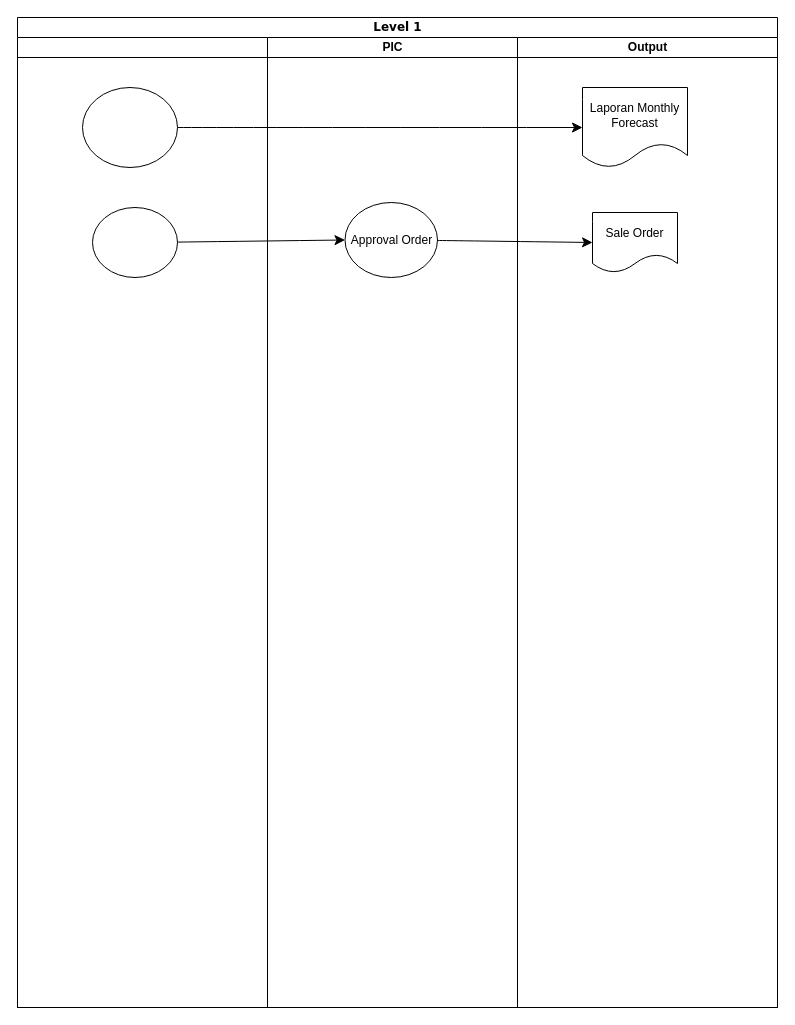
This 795x1025 diagram has some shape labels left out. The box of each missing label's shape, as (x1, y1, x2, y2) in pixels:
Customer: (16, 36, 268, 1008)
Input Forecest Order: (82, 86, 178, 168)
Input Order: (92, 206, 178, 278)
